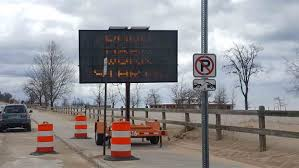barrel: (112, 121, 131, 159), (36, 124, 54, 153), (75, 116, 88, 138)
